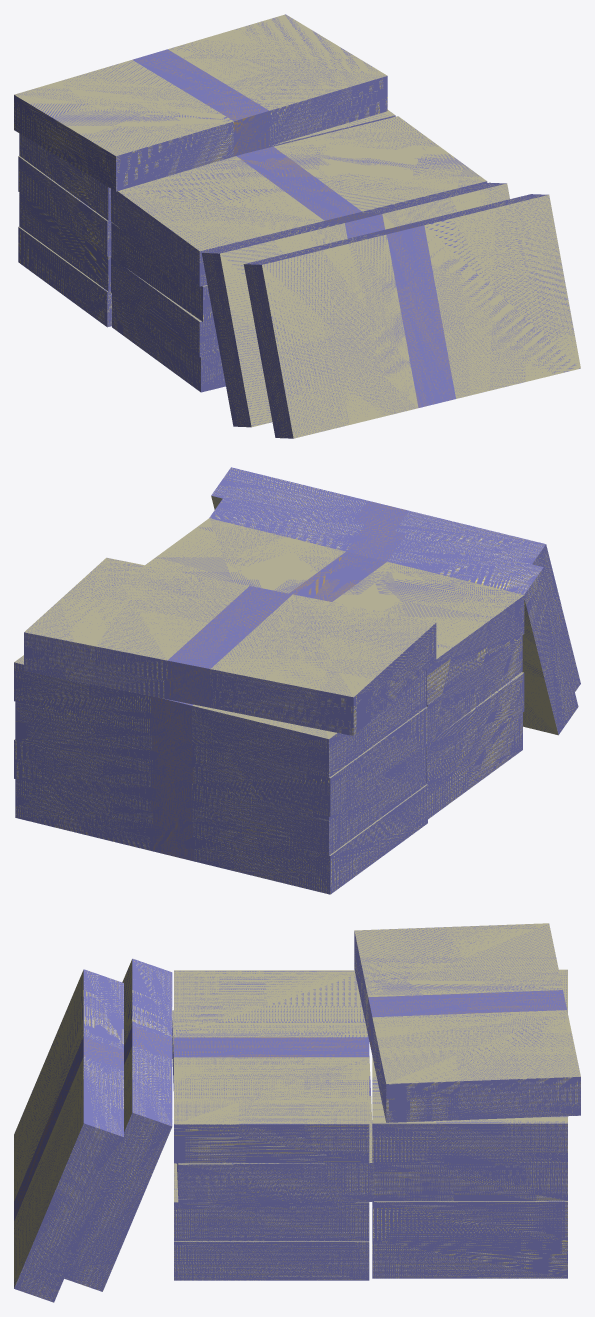
The model's file is Euros2.fbx.
The picture shows the model from 3 angles, top to bottom: view 1: azimuth 30°, elevation 25°; view 2: azimuth 150°, elevation 25°; view 3: azimuth 270°, elevation 25°; orthographic projection. The views are drawn at different scales.
Parts seen in each view (by area): view 1: G_200_Euro_stack11, G_200_Euro_stack9, G_200_Euro_stack7, G_200_Euro_stack10, G_200_Euro_stack2, G_200_Euro_stack4, G_200_Euro_stack6, G_200_Euro_stack1, G_200_Euro_stack5, G_200_Euro_stack8, G_200_Euro_stack3; view 2: G_200_Euro_stack9, G_200_Euro_stack7, G_200_Euro_stack10, G_200_Euro_stack1, G_200_Euro_stack5, G_200_Euro_stack3, G_200_Euro_stack8, G_200_Euro_stack11, G_200_Euro_stack4, G_200_Euro_stack6, G_200_Euro_stack2; view 3: G_200_Euro_stack9, G_200_Euro_stack7, G_200_Euro_stack11, G_200_Euro_stack10, G_200_Euro_stack8, G_200_Euro_stack6, G_200_Euro_stack2, G_200_Euro_stack3, G_200_Euro_stack4, G_200_Euro_stack1, G_200_Euro_stack5.
Boxes of the visible parts, x1=… form: G_200_Euro_stack11: x1=243, y1=194, x2=580, y2=438; G_200_Euro_stack9: x1=14, y1=14, x2=387, y2=191; G_200_Euro_stack7: x1=111, y1=116, x2=487, y2=286; G_200_Euro_stack10: x1=201, y1=182, x2=509, y2=427; G_200_Euro_stack2: x1=112, y1=293, x2=225, y2=392; G_200_Euro_stack4: x1=111, y1=257, x2=219, y2=357; G_200_Euro_stack6: x1=111, y1=222, x2=213, y2=321; G_200_Euro_stack1: x1=18, y1=226, x2=111, y2=327; G_200_Euro_stack5: x1=18, y1=156, x2=111, y2=256; G_200_Euro_stack8: x1=19, y1=110, x2=395, y2=220; G_200_Euro_stack3: x1=19, y1=192, x2=111, y2=291; G_200_Euro_stack9: x1=24, y1=557, x2=436, y2=735; G_200_Euro_stack7: x1=145, y1=518, x2=524, y2=704; G_200_Euro_stack10: x1=209, y1=490, x2=578, y2=735; G_200_Euro_stack1: x1=15, y1=779, x2=427, y2=894; G_200_Euro_stack5: x1=15, y1=701, x2=427, y2=816; G_200_Euro_stack3: x1=14, y1=739, x2=426, y2=855; G_200_Euro_stack8: x1=14, y1=655, x2=426, y2=777; G_200_Euro_stack11: x1=211, y1=467, x2=580, y2=691; G_200_Euro_stack4: x1=426, y1=672, x2=524, y2=782; G_200_Euro_stack6: x1=426, y1=635, x2=522, y2=743; G_200_Euro_stack2: x1=426, y1=713, x2=522, y2=819; G_200_Euro_stack9: x1=354, y1=923, x2=580, y2=1122; G_200_Euro_stack7: x1=174, y1=970, x2=369, y2=1163; G_200_Euro_stack11: x1=14, y1=969, x2=123, y2=1302; G_200_Euro_stack10: x1=64, y1=958, x2=172, y2=1291; G_200_Euro_stack8: x1=372, y1=969, x2=567, y2=1162; G_200_Euro_stack6: x1=172, y1=1010, x2=373, y2=1203; G_200_Euro_stack2: x1=174, y1=1241, x2=369, y2=1280; G_200_Euro_stack3: x1=372, y1=1201, x2=567, y2=1240; G_200_Euro_stack4: x1=174, y1=1163, x2=369, y2=1240; G_200_Euro_stack1: x1=372, y1=1240, x2=567, y2=1278; G_200_Euro_stack5: x1=374, y1=1162, x2=567, y2=1200.
Size of the model in its own units: 0.1723 by 0.0953 by 0.2378.
